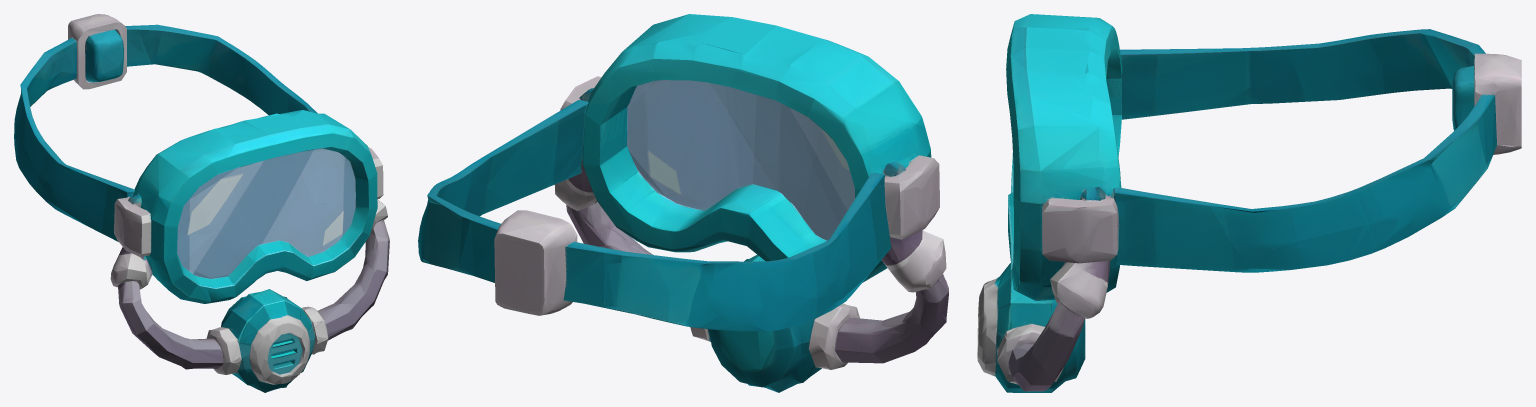
The model's file is divemask.glb.
The picture shows the model from 3 angles, left to right: view 1: azimuth 30°, elevation 25°; view 2: azimuth 150°, elevation 25°; view 3: azimuth 270°, elevation 25°; orthographic projection. The views are drawn at different scales.
Size of the model in its own units: 1.48 by 1.3 by 1.9.
1 material, 1 textured.
